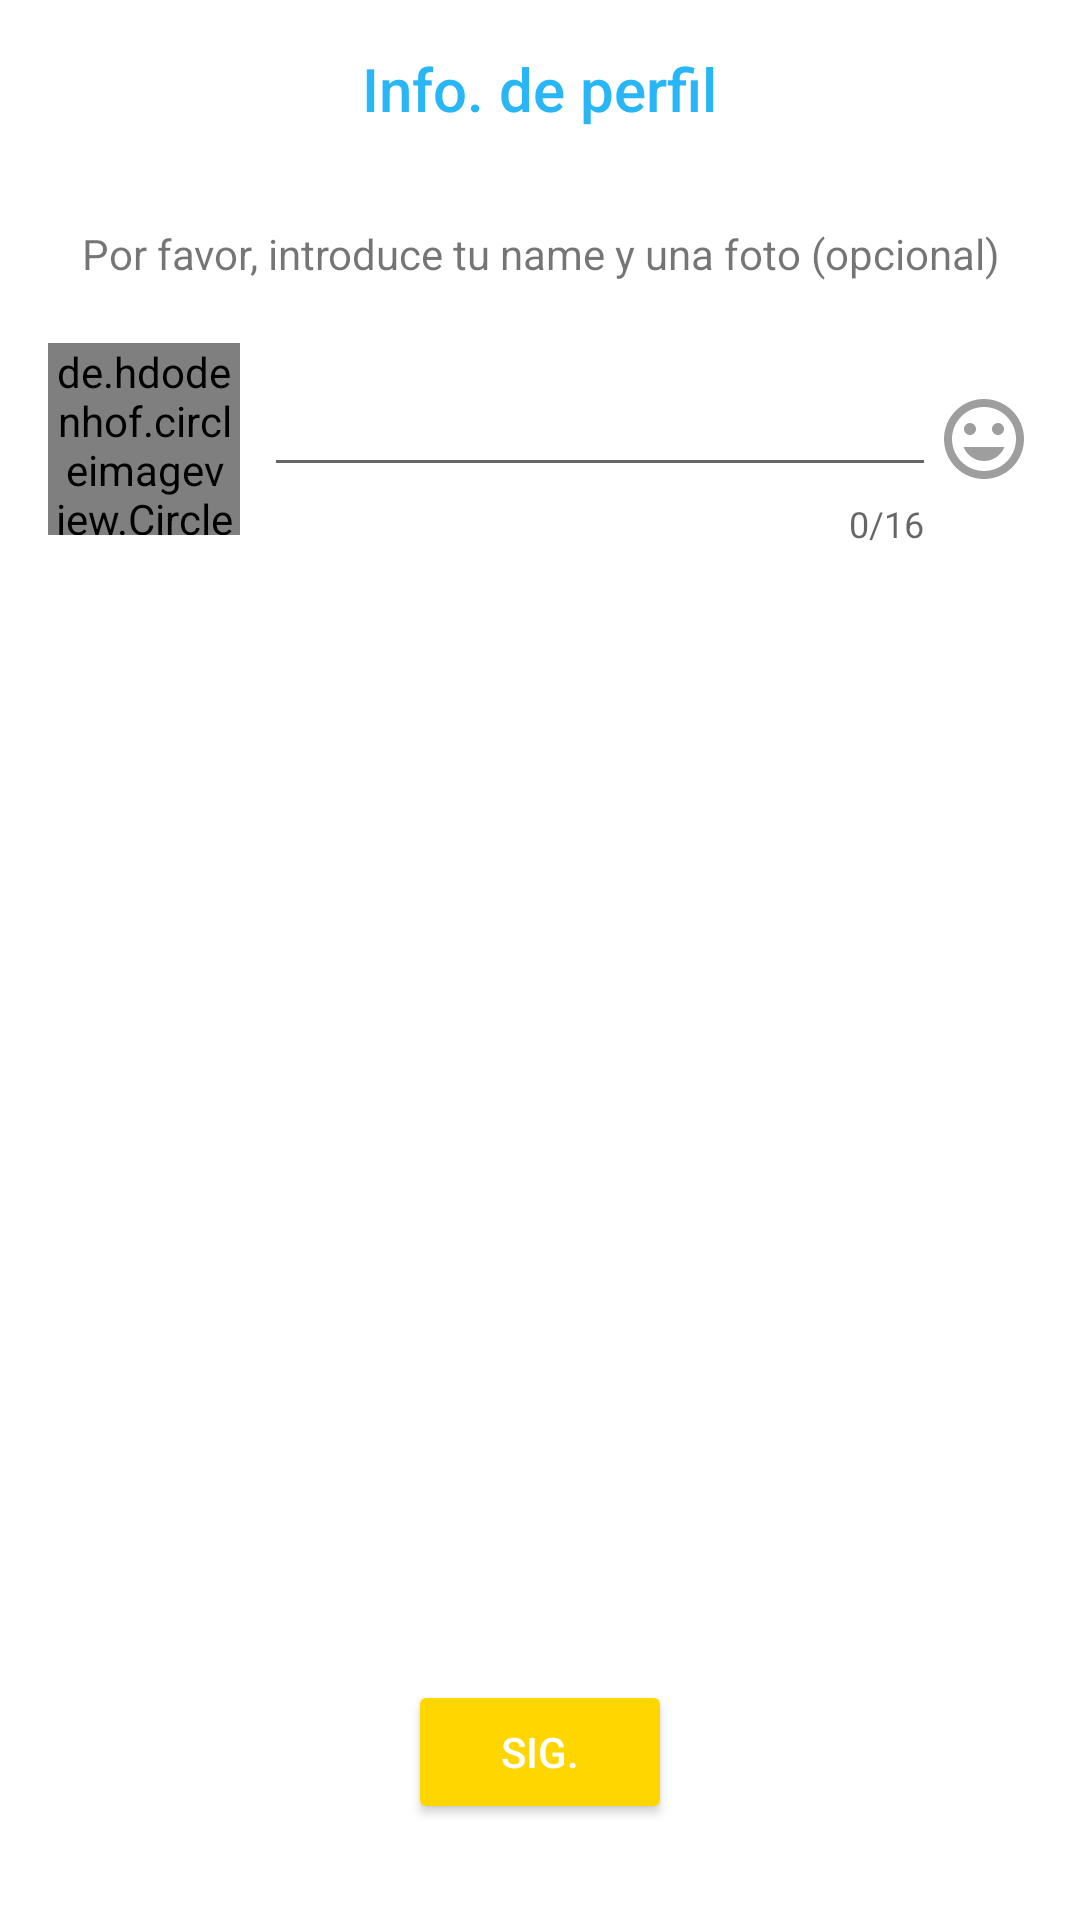

Where icons sit on this 1080 × 1920 app screen, as bbox=[x1, y1, x2, y2]:
tag faces: bbox=[944, 399, 1024, 479]
